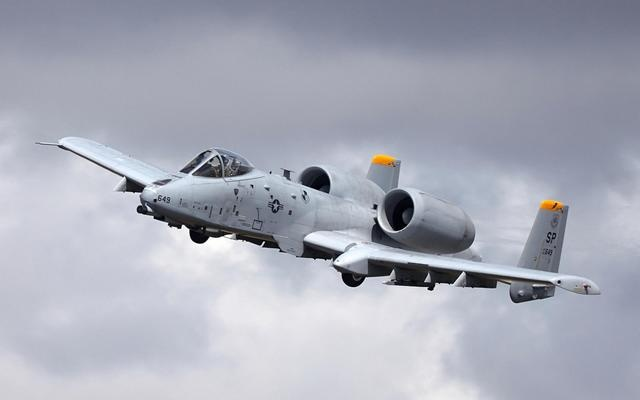airplane: (34, 126, 606, 306)
